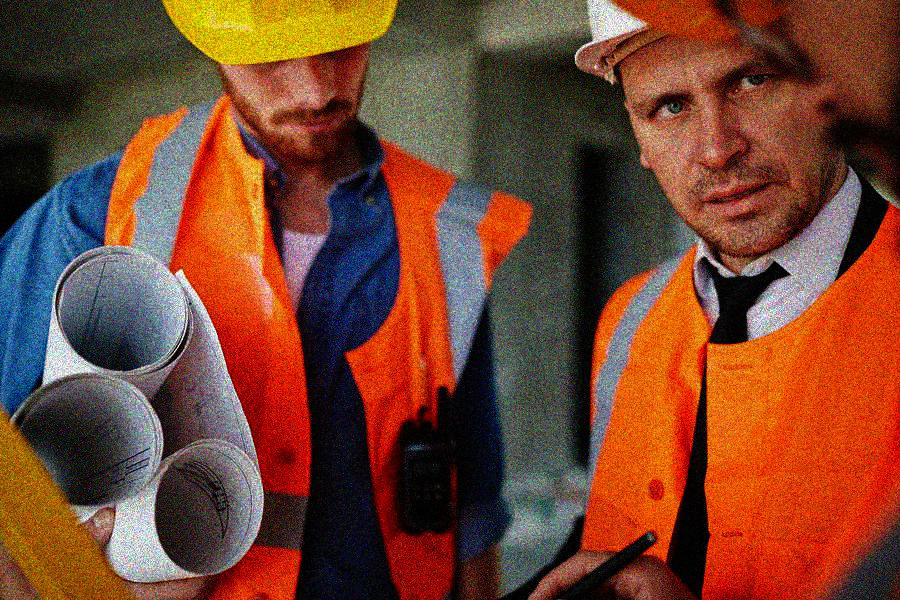helmet: (570, 1, 899, 261), (158, 1, 400, 164)
